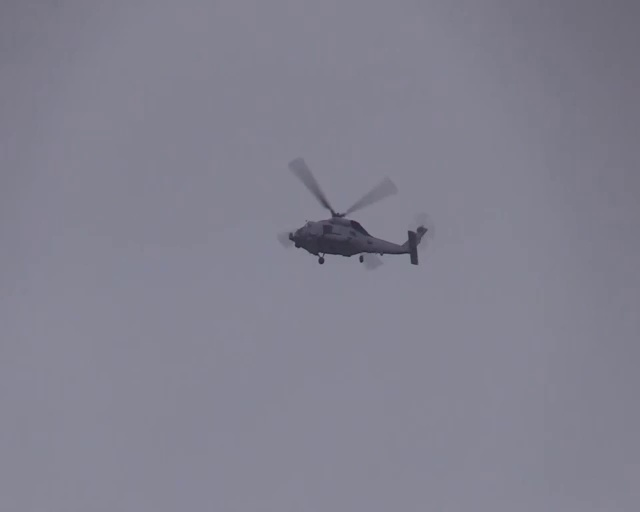HELICOPTER: (277, 156, 429, 267)
